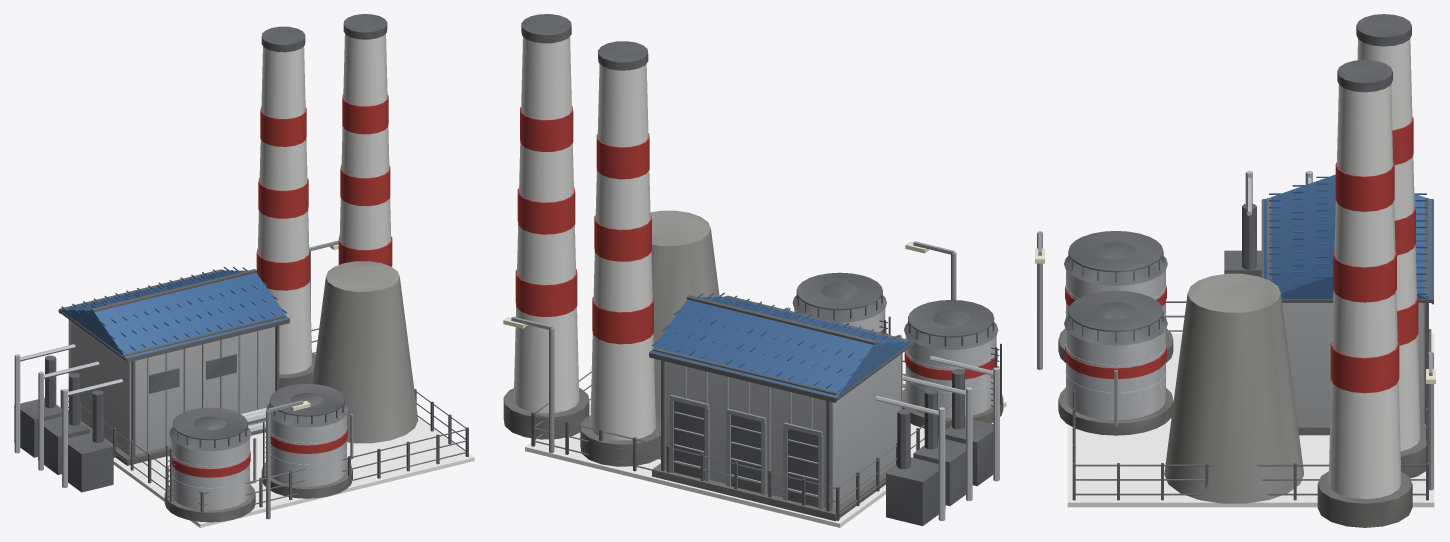
The model's file is Power_P2.fbx.
3 views of the same model, side by side, from view 1: azimuth 30°, elevation 25°; view 2: azimuth 150°, elevation 25°; view 3: azimuth 270°, elevation 25° (orthographic). The views are drawn at different scales.
Visible parts, largest first — view 1: Power.Hall, Power.Stack0, Power.CoolingTowers, Power.Stack1, Power.Tank0, Power.Switchyard, Power.Tank1, Power.Yard, Power.Fence, Power.Lamp0; view 2: Power.Hall, Power.Stack0, Power.Stack1, Power.Switchyard, Power.Tank0, Power.CoolingTowers, Power.Tank1, Power.Yard, Power.Fence, Power.Lamp1, Power.Lamp0; view 3: Power.Stack1, Power.CoolingTowers, Power.Hall, Power.Tank1, Power.Yard, Power.Stack0, Power.Tank0, Power.Fence, Power.Switchyard, Power.Lamp0, Power.Lamp1.
Boxes of the visible parts, <box> form: Power.Hall: <box>58,266,289,465</box>; Power.Stack0: <box>256,26,315,388</box>; Power.CoolingTowers: <box>312,261,418,443</box>; Power.Stack1: <box>338,14,392,266</box>; Power.Tank0: <box>164,407,256,522</box>; Power.Switchyard: <box>14,344,122,492</box>; Power.Tank1: <box>261,384,353,498</box>; Power.Yard: <box>113,417,474,527</box>; Power.Fence: <box>60,328,468,512</box>; Power.Lamp0: <box>266,400,310,519</box>; Power.Hall: <box>649,292,914,521</box>; Power.Stack0: <box>580,41,660,466</box>; Power.Stack1: <box>503,14,589,439</box>; Power.Switchyard: <box>875,356,999,526</box>; Power.Tank0: <box>898,300,1003,429</box>; Power.CoolingTowers: <box>650,210,719,418</box>; Power.Tank1: <box>786,272,890,335</box>; Power.Yard: <box>525,377,1006,527</box>; Power.Fence: <box>531,360,951,520</box>; Power.Lamp1: <box>503,316,554,452</box>; Power.Lamp0: <box>905,241,956,299</box>; Power.Stack1: <box>1317,59,1412,527</box>; Power.CoolingTowers: <box>1164,273,1304,503</box>; Power.Hall: <box>1261,174,1433,435</box>; Power.Tank1: <box>1058,290,1173,435</box>; Power.Yard: <box>1067,333,1434,507</box>; Power.Stack0: <box>1356,14,1426,478</box>; Power.Tank0: <box>1058,231,1173,362</box>; Power.Fence: <box>1072,301,1428,500</box>; Power.Switchyard: <box>1224,171,1312,277</box>; Power.Lamp0: <box>1035,231,1044,369</box>; Power.Lamp1: <box>1426,351,1435,490</box>.
Size of the model in its own units: 3333 by 2921 by 2405.
